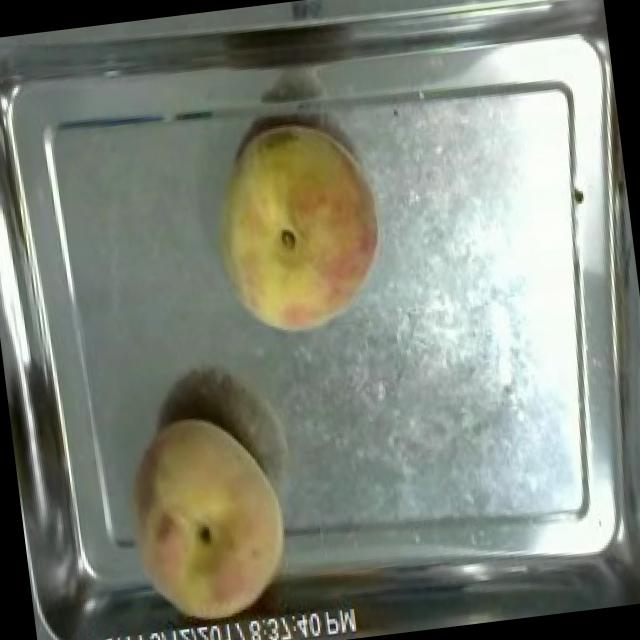Fruit: (196, 106, 402, 347), (107, 400, 307, 640)
